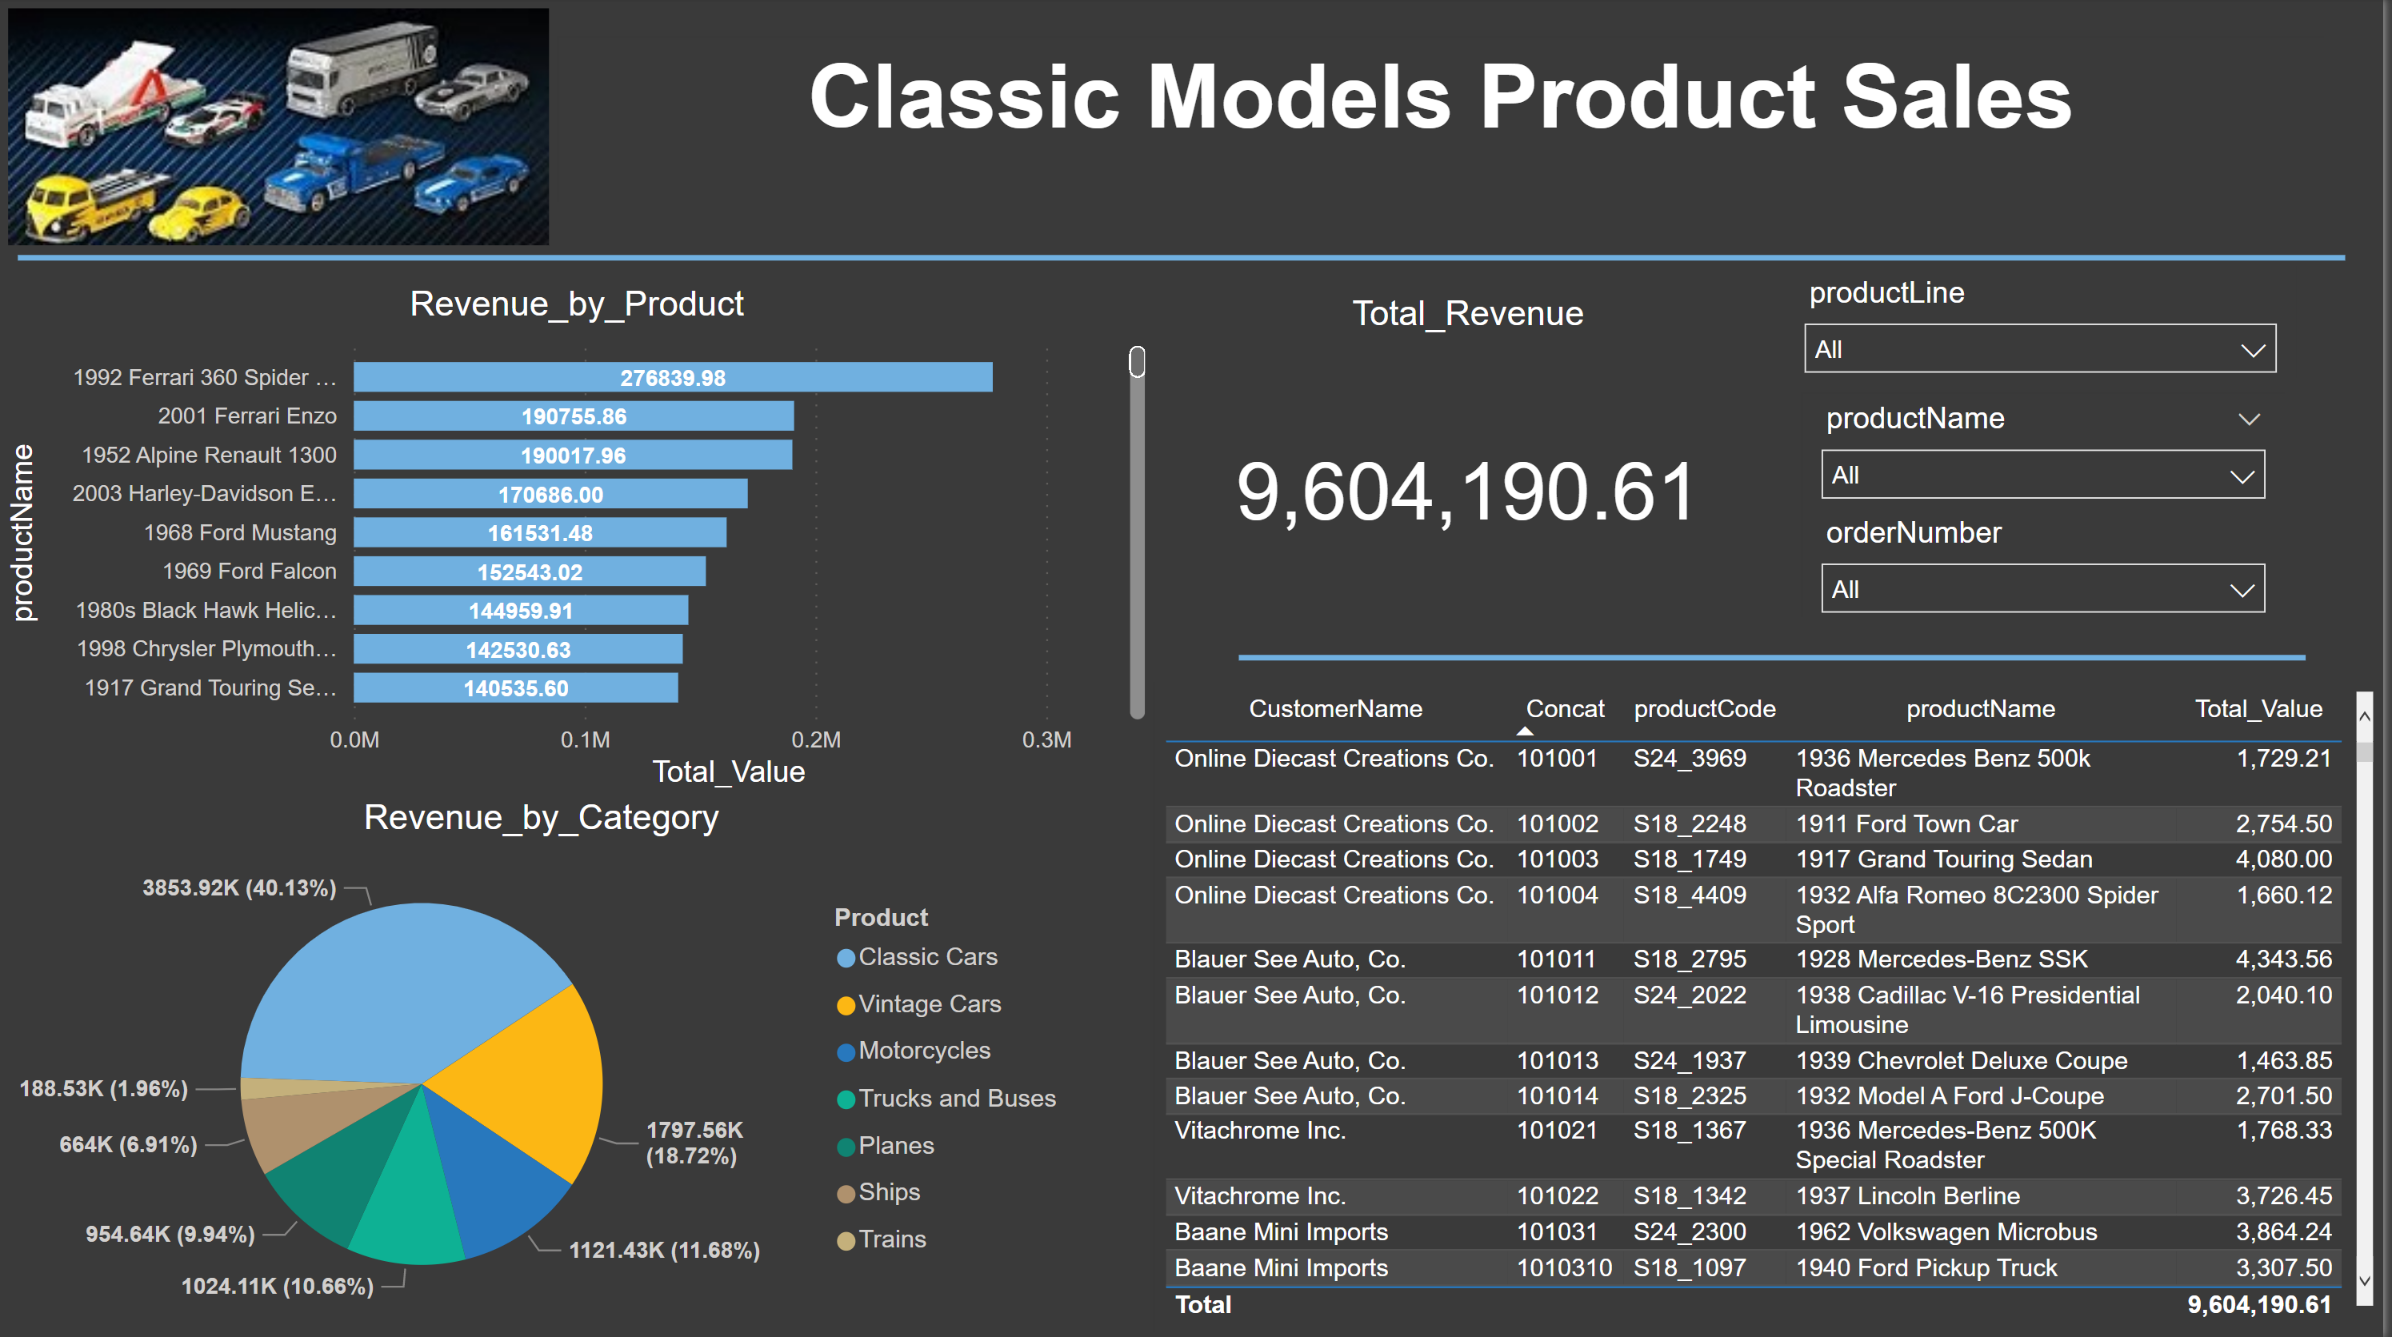

The page's visual inventory and layout, read from the dashboard file:
{"tool":"powerbi","page":{"name":"Scenario2","canvas":[1280,720],"ordinal":1},"visuals":[{"type":"textbox","box":[300.4,20.9,948.2,88.3],"z":0},{"type":"image","box":[0,0,300.4,137.4],"z":1000},{"type":"basicShape","box":[0,125,1269.5,28.8],"z":2000},{"type":"basicShape","box":[655.7,318,592.9,72.6],"z":3000},{"type":"clusteredBarChart","title":"Revenue_by_Product","fields":{"Category":["Order_Details.productName"],"Y":["Sum(Order_Details.Total_Value)"]},"box":[0,153.8,620.4,275.5],"z":4000},{"type":"pieChart","title":"Revenue_by_Category","fields":{"Y":["Sum(Order_Details.Total_Value)"],"Category":["Order_Details.productLine"]},"box":[0,429.3,582.4,286.6],"z":5000},{"type":"slicer","fields":{"Values":["Products.productLine"]},"box":[958.7,144.6,274.2,58.9],"z":6000},{"type":"slicer","fields":{"Values":["Products.productName"]},"box":[967.9,212,259.1,66.7],"z":7000},{"type":"tableEx","fields":{"Values":["Order_Details.CustomerName","Order_Details.Concat","Order_Details.productCode","Order_Details.productName","Sum(Order_Details.Total_Value)"]},"box":[620.4,367.8,659.6,348.1],"z":8000},{"type":"card","title":"Total_Revenue","fields":{"Values":["Sum(Order_Details.Total_Value)"]},"box":[644.6,159,287.9,186.5],"z":9000},{"type":"slicer","fields":{"Values":["Order_Details.orderNumber"]},"box":[967.9,273.5,259.1,59.6],"z":10000}]}

Visuals, with their boxes in screenshot pixels (x1, y1, x2, y2), scaled from the page's 1280x720 canvas onto the 2392x1337 screenshot:
textbox: BBox(561, 39, 2333, 203)
image: BBox(0, 0, 561, 255)
basicShape: BBox(0, 232, 2372, 286)
basicShape: BBox(1225, 591, 2333, 725)
"Revenue_by_Product" clusteredBarChart: BBox(0, 286, 1159, 797)
"Revenue_by_Category" pieChart: BBox(0, 797, 1088, 1329)
slicer - Products.productLine: BBox(1792, 269, 2304, 378)
slicer - Products.productName: BBox(1809, 394, 2293, 518)
tableEx - Order_Details.CustomerName x Order_Details.Concat: BBox(1159, 683, 2391, 1329)
"Total_Revenue" card: BBox(1205, 295, 1743, 642)
slicer - Order_Details.orderNumber: BBox(1809, 508, 2293, 619)
